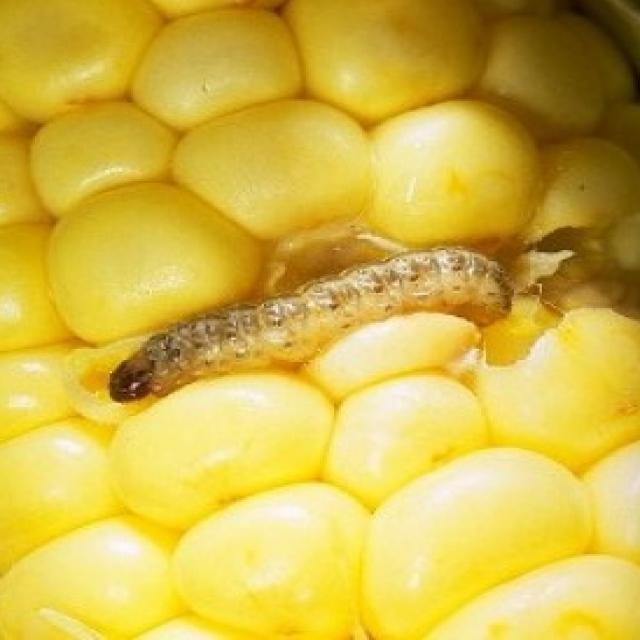cornborer-Larva-: (94, 239, 525, 408)
